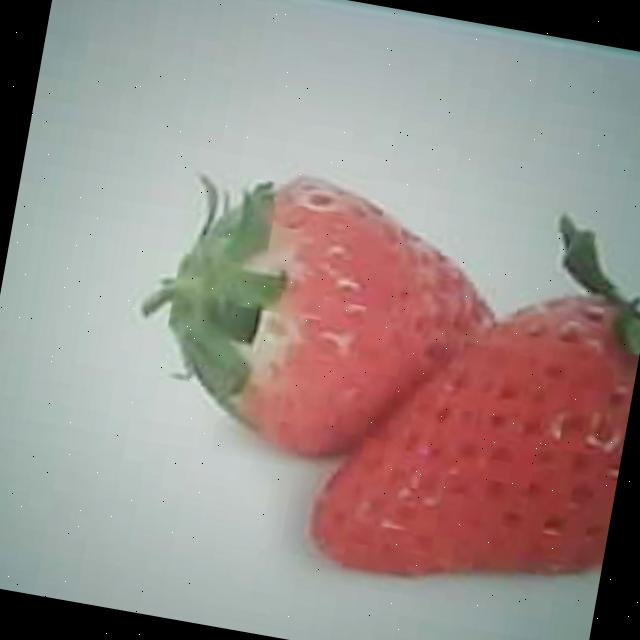strawberry: (143, 154, 520, 480), (303, 247, 640, 604)
